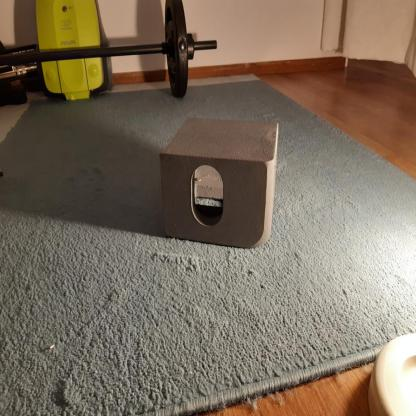CornerCasting: (159, 115, 285, 245)
